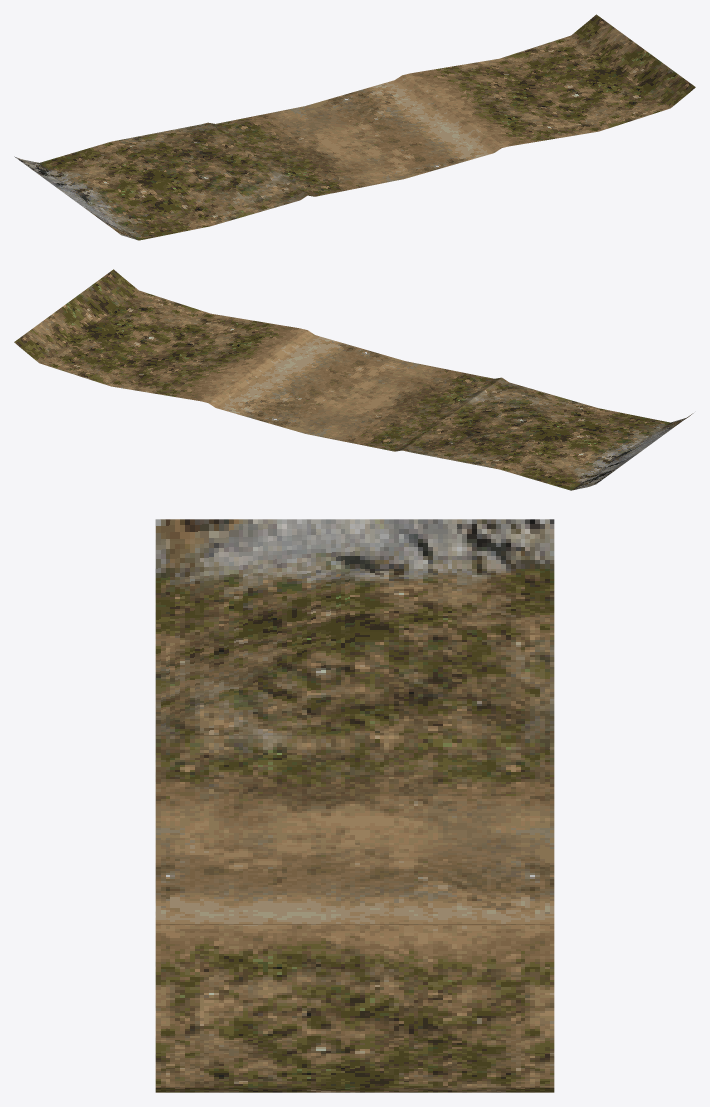
Rendered from 1_road_01_start_uphill.glb.
The picture shows the model from 3 angles, top to bottom: view 1: azimuth 30°, elevation 25°; view 2: azimuth 150°, elevation 25°; view 3: azimuth 270°, elevation 25°; orthographic projection. The views are drawn at different scales.
Parts seen in each view (by area): view 1: 1_road_01_start_uphill; view 2: 1_road_01_start_uphill; view 3: 1_road_01_start_uphill.
Part boxes in pixels (box(x1,y1,x2,y2)): 1_road_01_start_uphill: box(14, 14, 695, 240); 1_road_01_start_uphill: box(14, 269, 693, 490); 1_road_01_start_uphill: box(155, 519, 554, 1092).
Size of the model in its own units: 27.01 by 0.9147 by 8.
1 material, 1 textured.
